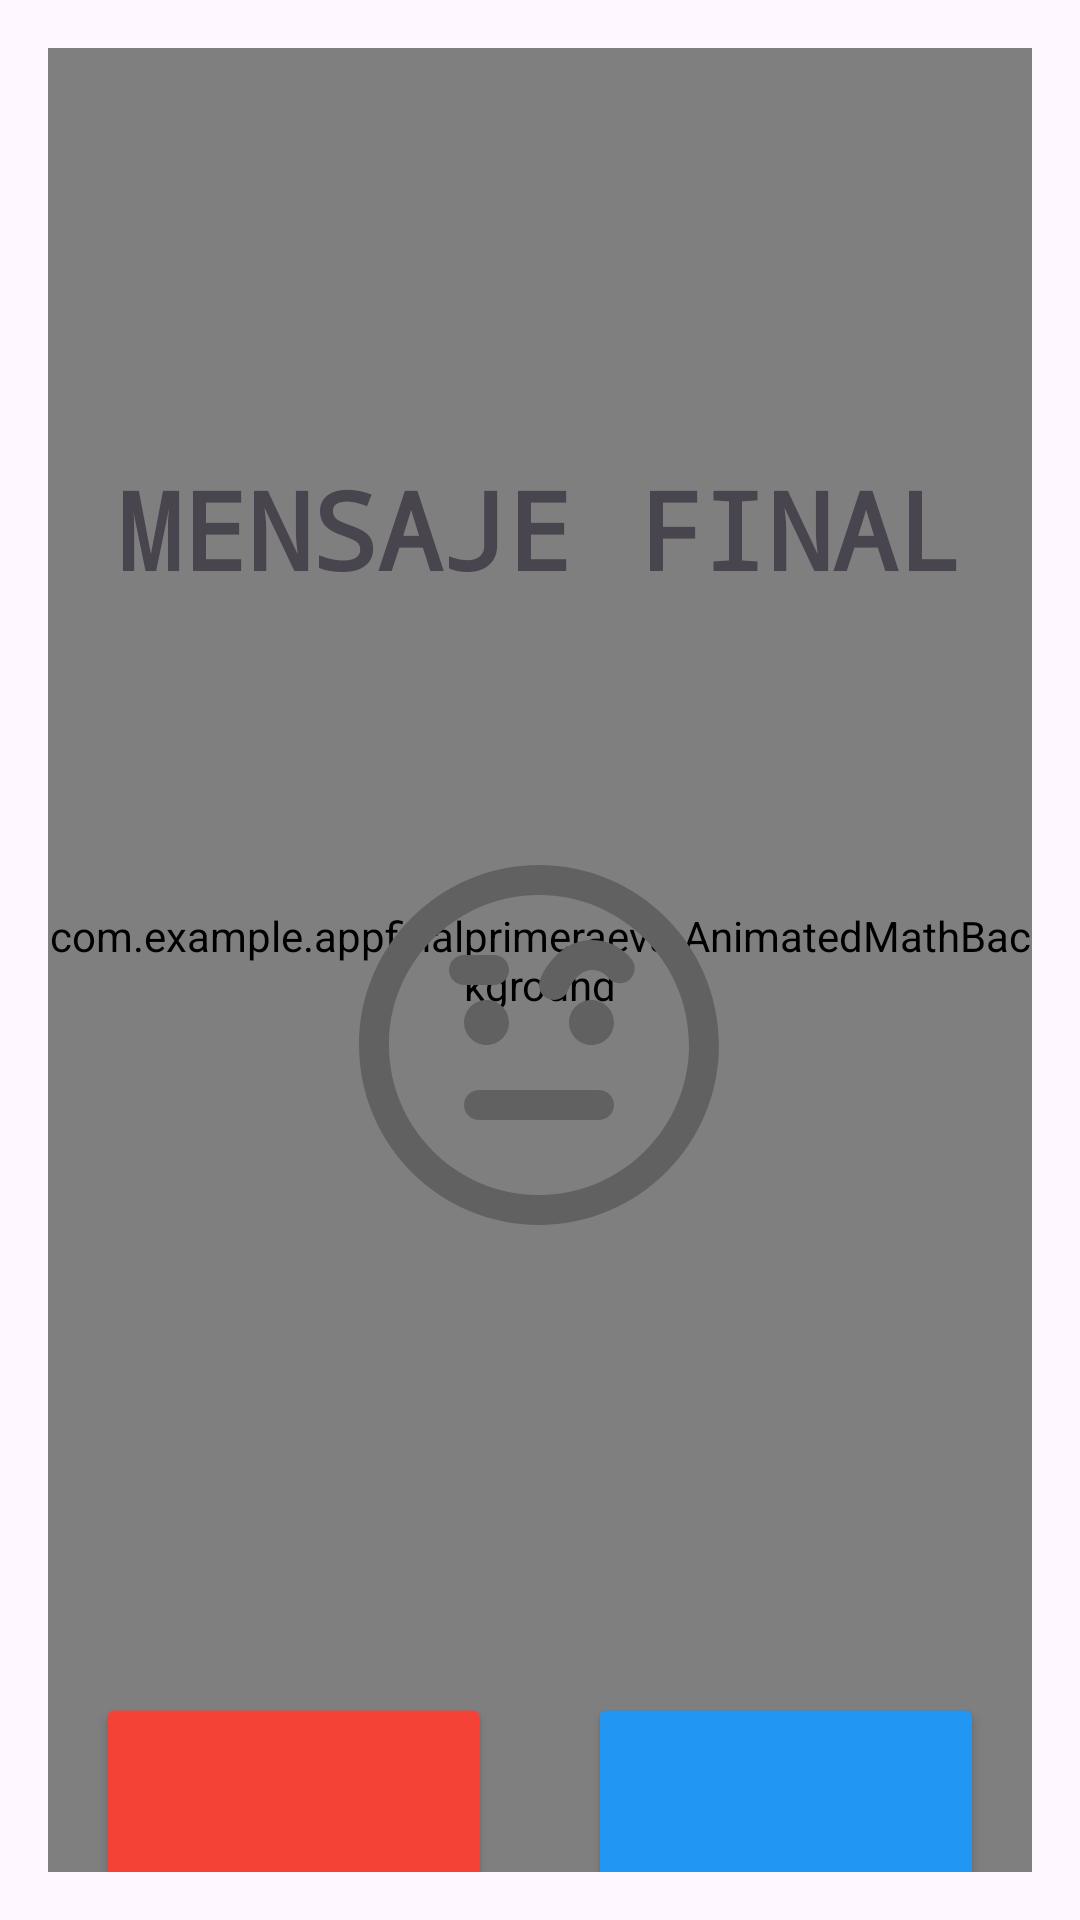

Icon bounding boxes for this 1080w x 1920h phone screenshot, format [x1=x1, y1=y1, x2=x2, y2=y2]:
face raised eyebrow: [x1=359, y1=865, x2=719, y2=1225]
